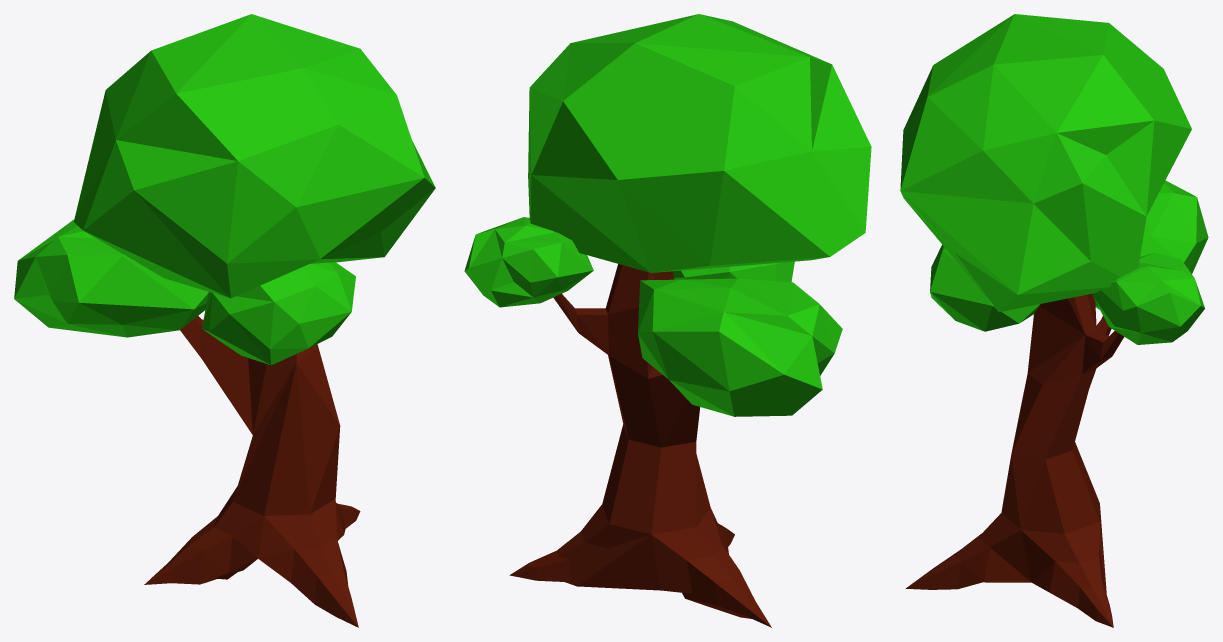
Rendered from Tree 1.FBX.
3 views of the same model, side by side, from view 1: azimuth 30°, elevation 25°; view 2: azimuth 150°, elevation 25°; view 3: azimuth 270°, elevation 25° (orthographic). The views are drawn at different scales.
Parts seen in each view (by area): view 1: Hedra001; view 2: Hedra001; view 3: Hedra001.
Boxes of the visible parts, x1,y1,x2,y2 form: Hedra001: [14, 14, 435, 627]; Hedra001: [464, 14, 871, 627]; Hedra001: [900, 14, 1208, 627].
Size of the model in its own units: 146 by 218 by 114.
